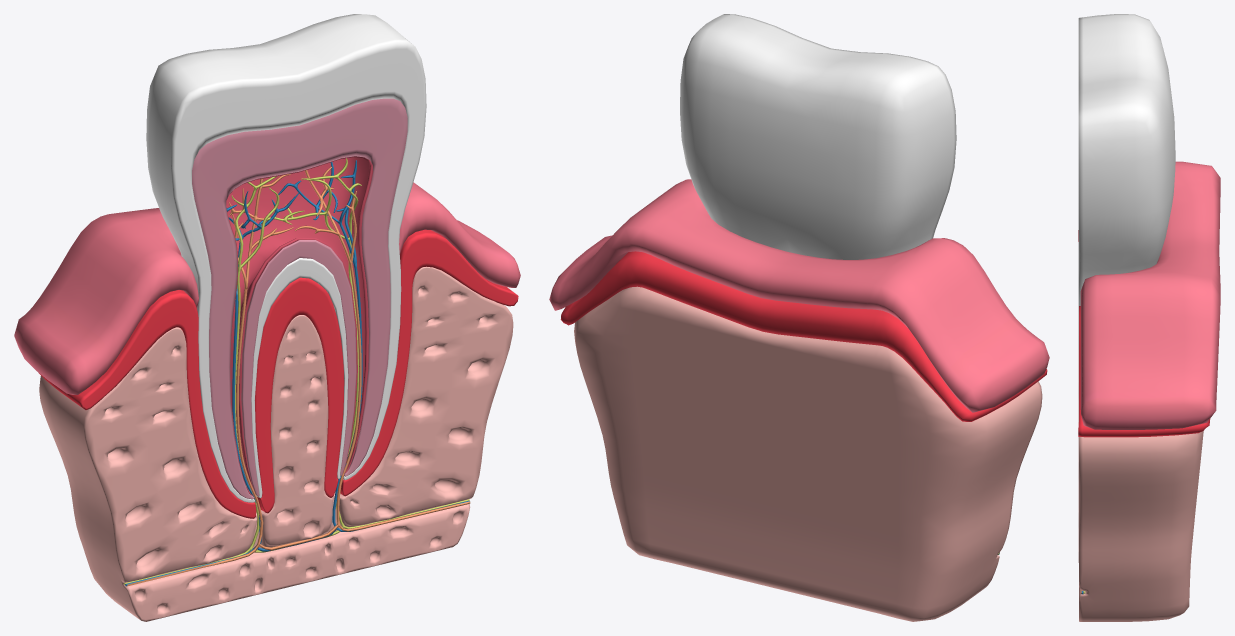
File: tooth_01.gltf
3 views of the same model, side by side, from view 1: azimuth 30°, elevation 25°; view 2: azimuth 150°, elevation 25°; view 3: azimuth 270°, elevation 25° (orthographic). The views are drawn at different scales.
Visible parts, largest first — view 1: Plane.013_Plane.040, Plane.022_Plane.048, Plane.021_Plane.047, Plane.015_Plane.042, Plane.020_Plane.046, Plane.014_Plane.041, Plane.016_Plane.043, Plane.017_Plane.044, Plane.018_Plane.045; view 2: Plane.013_Plane.040, Plane.022_Plane.048, Plane.015_Plane.042, Plane.020_Plane.046; view 3: Plane.015_Plane.042, Plane.022_Plane.048, Plane.013_Plane.040, Plane.020_Plane.046.
Part boxes in pixels (x1,y1,x2,y2): Plane.013_Plane.040: (39, 266, 513, 621); Plane.022_Plane.048: (146, 14, 426, 502); Plane.021_Plane.047: (192, 98, 407, 499); Plane.015_Plane.042: (14, 182, 520, 394); Plane.020_Plane.046: (39, 229, 518, 518); Plane.014_Plane.041: (226, 156, 373, 495); Plane.016_Plane.043: (127, 166, 470, 586); Plane.017_Plane.044: (124, 158, 469, 584); Plane.018_Plane.045: (125, 160, 469, 586); Plane.013_Plane.040: (574, 286, 1042, 621); Plane.022_Plane.048: (680, 14, 956, 259); Plane.015_Plane.042: (549, 179, 1049, 412); Plane.020_Plane.046: (560, 251, 1047, 421); Plane.015_Plane.042: (1080, 161, 1220, 429); Plane.022_Plane.048: (1078, 14, 1175, 349); Plane.013_Plane.040: (1078, 350, 1203, 621); Plane.020_Plane.046: (1078, 230, 1210, 437).
Size of the model in its own units: 6.29 by 6.99 by 1.83.
1 material, 1 textured.
